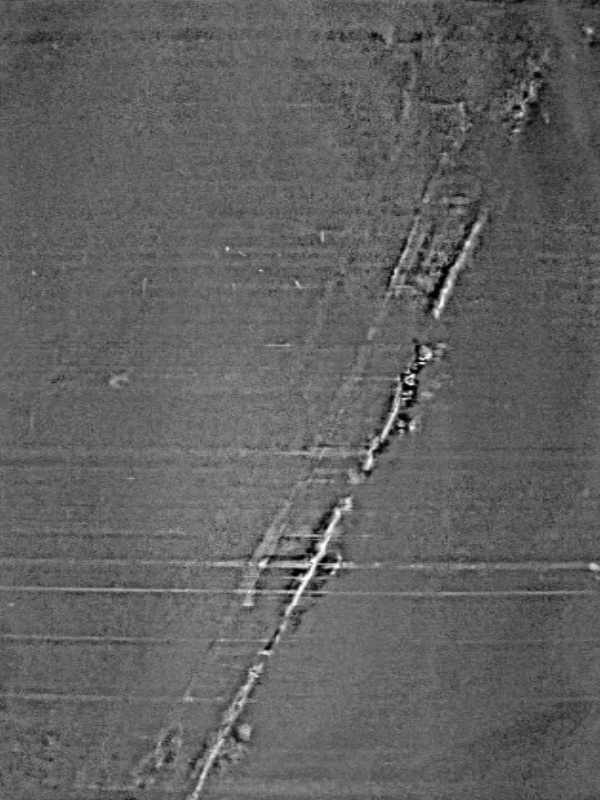splice_vulcanized: (128, 2, 585, 800)
